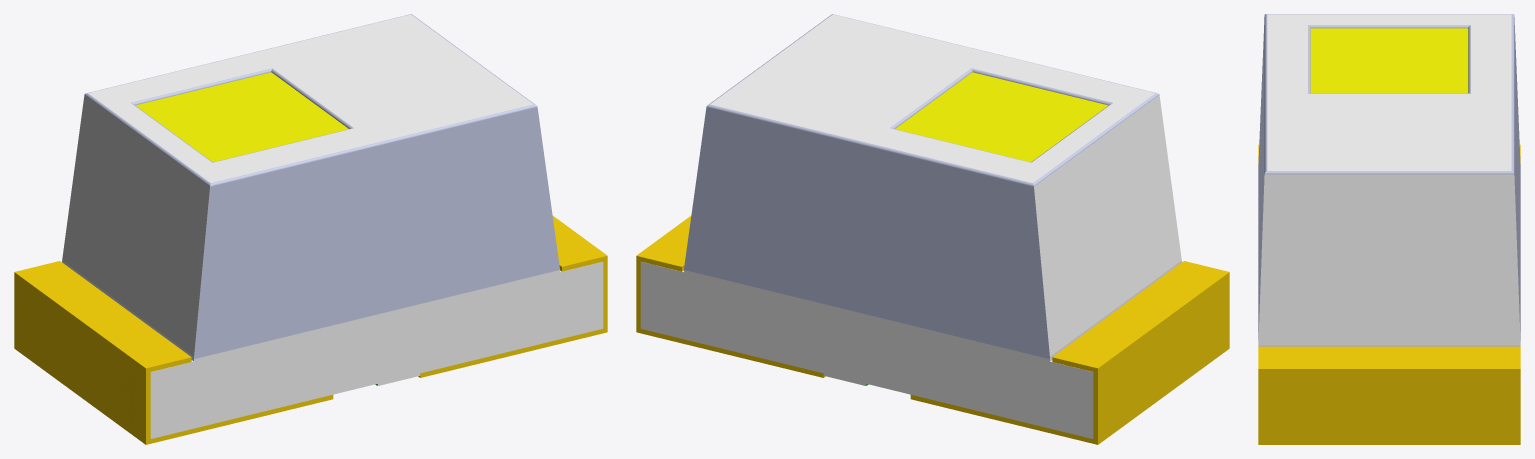
File: led.fbx
3 views of the same model, side by side, from view 1: azimuth 30°, elevation 25°; view 2: azimuth 150°, elevation 25°; view 3: azimuth 270°, elevation 25° (orthographic).
Parts seen in each view (by area): view 1: Fillet1; view 2: Fillet1; view 3: Fillet1.
Part boxes in pixels (x1,y1,x2,y2): Fillet1: (14,14,607,444); Fillet1: (636,14,1229,444); Fillet1: (1258,14,1520,444).
Size of the model in its own units: 0.0398 by 0.0199 by 0.0197.
